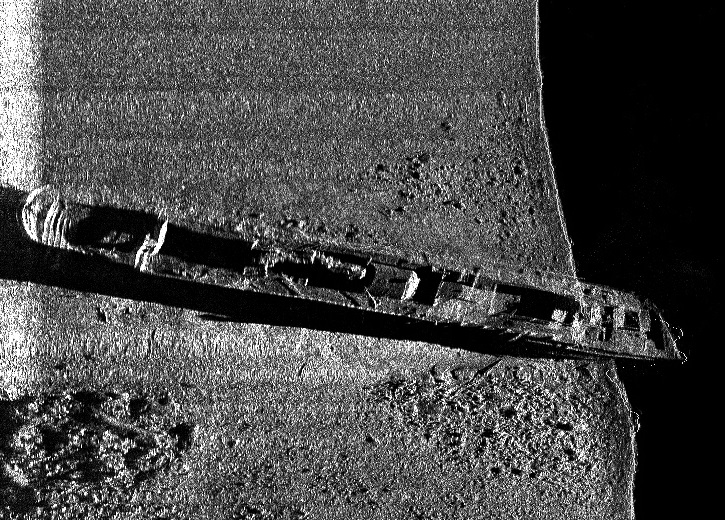ship: (16, 186, 693, 369)
